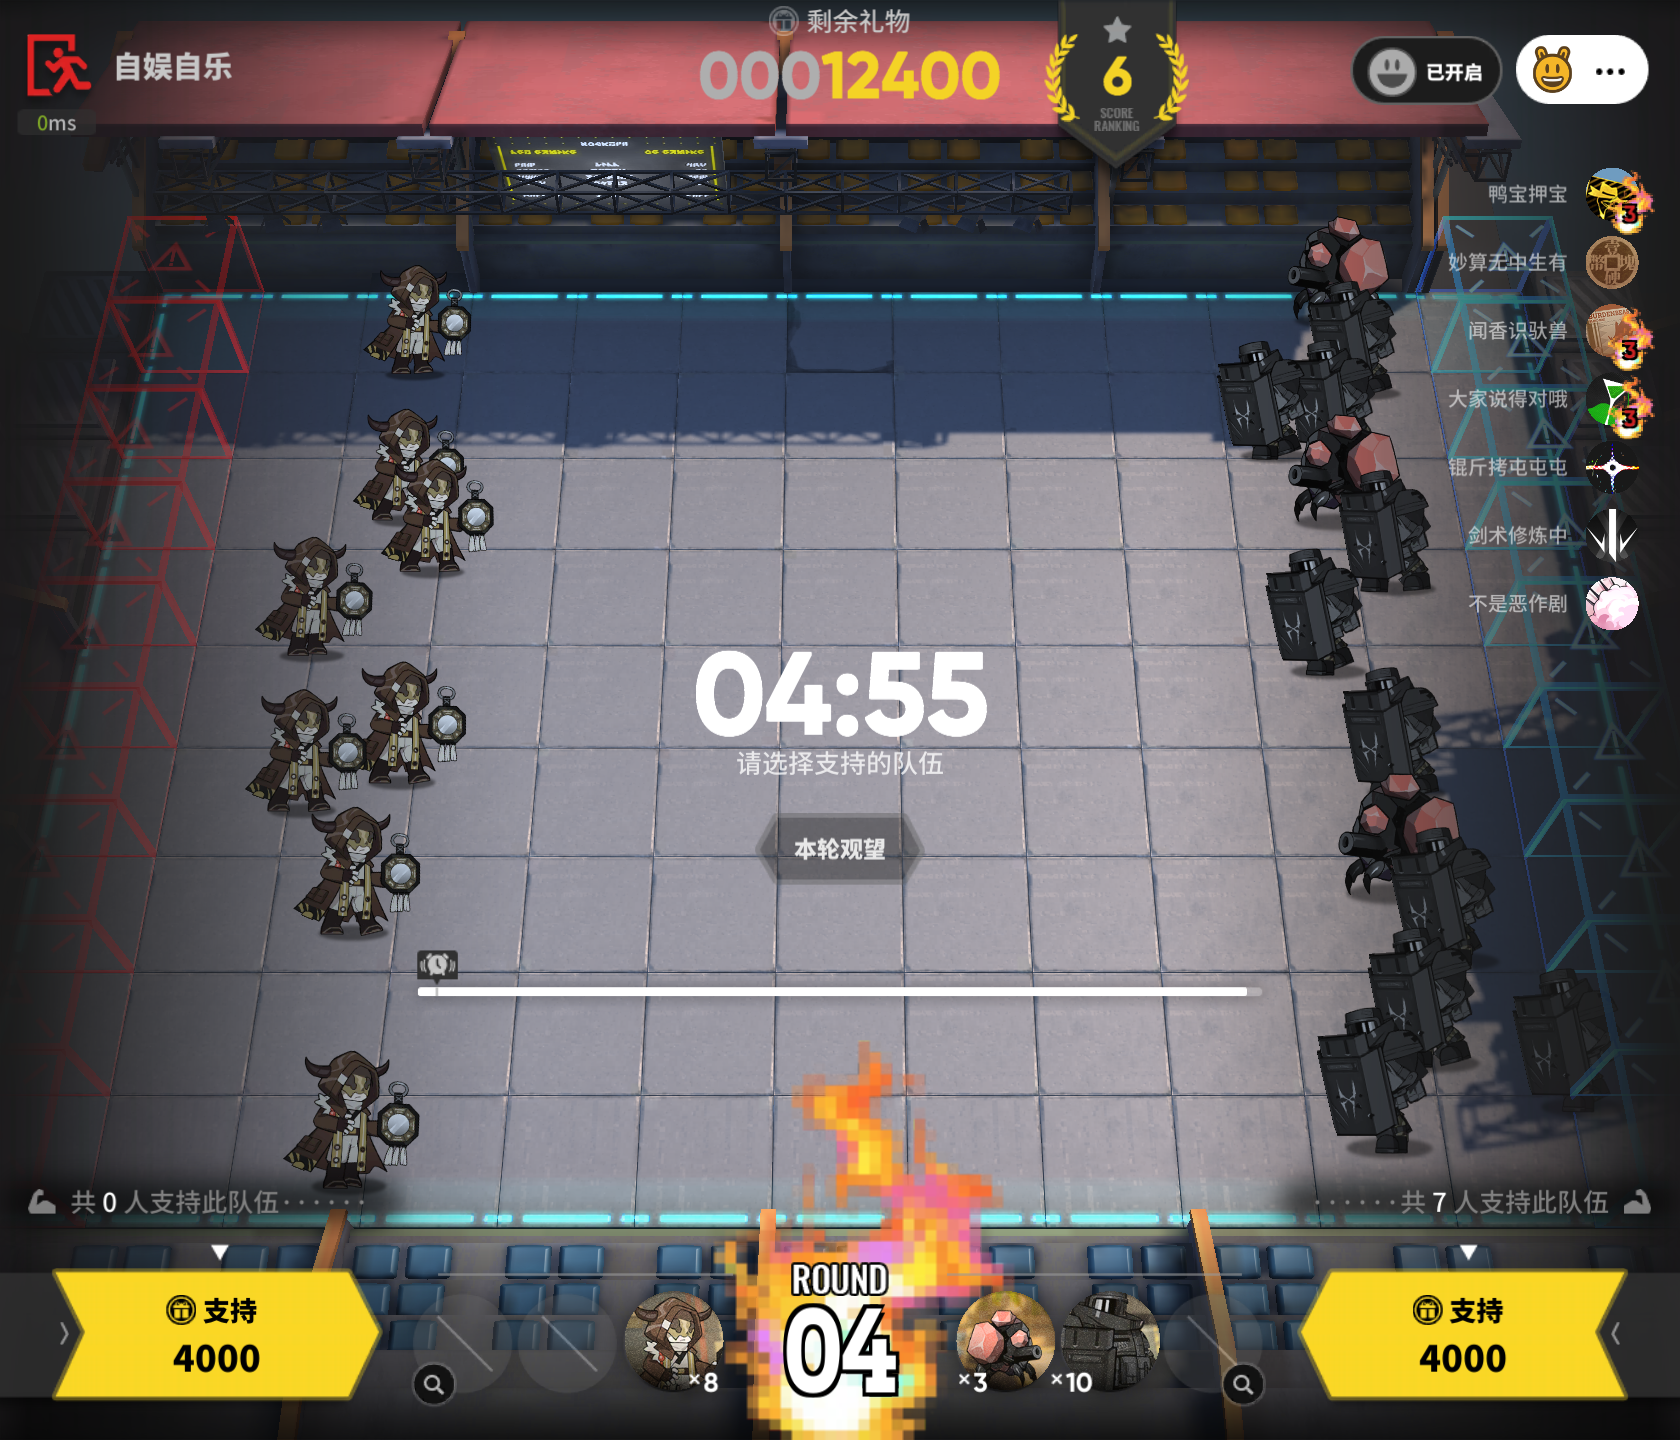大喷蛛: (1344, 769, 1474, 907), (1287, 401, 1409, 519), (1281, 211, 1399, 331), (956, 1283, 1061, 1393)
迟钝的持盾者: (1366, 929, 1494, 1071), (1314, 1006, 1424, 1169), (1339, 661, 1460, 794), (1329, 469, 1441, 606), (1514, 966, 1623, 1099), (1394, 826, 1497, 966), (1309, 274, 1411, 411), (1274, 546, 1369, 674), (1061, 1281, 1171, 1387), (1211, 329, 1299, 457), (1289, 341, 1374, 444)
镜子机关枪: (281, 1050, 419, 1190), (291, 806, 421, 936), (246, 689, 369, 813), (360, 661, 474, 784), (364, 263, 477, 386), (380, 450, 491, 574), (254, 536, 369, 654), (353, 409, 469, 519), (629, 1290, 723, 1391), (1584, 167, 1653, 234), (1586, 304, 1653, 370)
